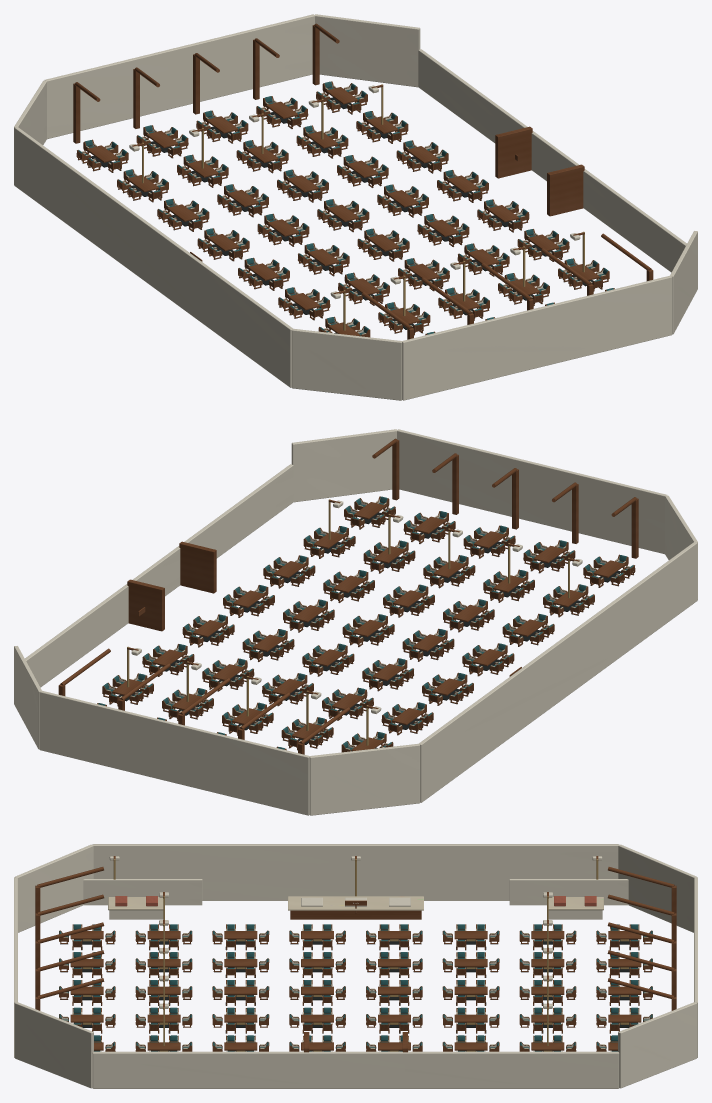
File: SOL_D10_directory_05_source001.glb
3 views of the same model, one above another, from view 1: azimuth 30°, elevation 25°; view 2: azimuth 150°, elevation 25°; view 3: azimuth 270°, elevation 25° (orthographic). The views are drawn at different scales.
Visible parts, largest first — view 1: D10_directory_05__dining_shell3, D10_directory_05__dining_shell5, D10_directory_05__dining_shell1, D10_directory_05__dining_shell4, D10_directory_05__dining_shell0, D10_directory_05__entry_b, D10_directory_05__entry_a, D10_directory_05__dining_shell6, D10_directory_05__threshold4.5, D10_directory_05__threshold-4.5, D10_directory_05__dining_shell2; view 2: D10_directory_05__dining_shell3, D10_directory_05__dining_shell1, D10_directory_05__dining_shell5, D10_directory_05__dining_shell2, D10_directory_05__dining_shell6, D10_directory_05__entry_b, D10_directory_05__entry_a, D10_directory_05__dining_shell0, D10_directory_05__threshold4.5, D10_directory_05__threshold-4.5, D10_directory_05__dining_shell4; view 3: D10_directory_05__dining_shell3, D10_directory_05__entry_a, D10_directory_05__entry_b, D10_directory_05__dining_shell0, D10_directory_05__dining_shell6, D10_directory_05__dining_shell2, D10_directory_05__dining_shell4, D10_directory_05__clean_screen, D10_directory_05__return_screen, D10_directory_05__service_counter_top, D10_directory_05__service_counter_base, D10_directory_05__clean_stock_top (+5 smaller).
Part boxes in pixels (x1=…): D10_directory_05__dining_shell3: x1=14, y1=127, x2=292, y2=387; D10_directory_05__dining_shell5: x1=402, y1=275, x2=672, y2=400; D10_directory_05__dining_shell1: x1=44, y1=14, x2=314, y2=139; D10_directory_05__dining_shell4: x1=291, y1=328, x2=402, y2=400; D10_directory_05__dining_shell0: x1=314, y1=14, x2=420, y2=87; D10_directory_05__entry_b: x1=418, y1=49, x2=576, y2=181; D10_directory_05__entry_a: x1=532, y1=131, x2=686, y2=272; D10_directory_05__dining_shell6: x1=670, y1=231, x2=697, y2=334; D10_directory_05__threshold4.5: x1=547, y1=164, x2=584, y2=216; D10_directory_05__threshold-4.5: x1=495, y1=126, x2=532, y2=178; D10_directory_05__dining_shell2: x1=14, y1=80, x2=46, y2=184; D10_directory_05__dining_shell3: x1=419, y1=542, x2=697, y2=802; D10_directory_05__dining_shell1: x1=39, y1=690, x2=309, y2=815; D10_directory_05__dining_shell5: x1=397, y1=429, x2=667, y2=554; D10_directory_05__dining_shell2: x1=309, y1=743, x2=420, y2=815; D10_directory_05__dining_shell6: x1=291, y1=429, x2=397, y2=502; D10_directory_05__entry_b: x1=25, y1=547, x2=180, y2=687; D10_directory_05__entry_a: x1=132, y1=464, x2=293, y2=580; D10_directory_05__dining_shell0: x1=14, y1=646, x2=41, y2=749; D10_directory_05__threshold4.5: x1=179, y1=541, x2=216, y2=593; D10_directory_05__threshold-4.5: x1=127, y1=579, x2=164, y2=631; D10_directory_05__dining_shell4: x1=665, y1=495, x2=697, y2=599; D10_directory_05__dining_shell3: x1=92, y1=844, x2=619, y2=900; D10_directory_05__entry_a: x1=92, y1=1051, x2=404, y2=1088; D10_directory_05__entry_b: x1=308, y1=1051, x2=619, y2=1088; D10_directory_05__dining_shell0: x1=618, y1=1002, x2=696, y2=1088; D10_directory_05__dining_shell6: x1=15, y1=1002, x2=93, y2=1088; D10_directory_05__dining_shell2: x1=618, y1=844, x2=696, y2=932; D10_directory_05__dining_shell4: x1=15, y1=844, x2=93, y2=932; D10_directory_05__clean_screen: x1=83, y1=879, x2=202, y2=905; D10_directory_05__return_screen: x1=509, y1=879, x2=628, y2=905; D10_directory_05__service_counter_top: x1=288, y1=896, x2=423, y2=910; D10_directory_05__service_counter_base: x1=290, y1=910, x2=421, y2=919; D10_directory_05__clean_stock_top: x1=108, y1=897, x2=163, y2=910.
Size of the model in its own units: 40.86 by 6.98 by 62.36.
Materials: 13 (13 with a texture image).
